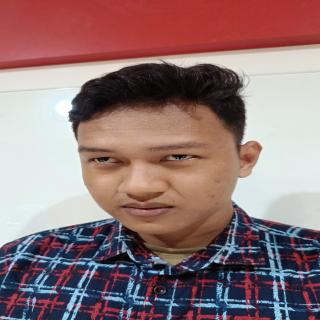Marah: (73, 99, 244, 244)
